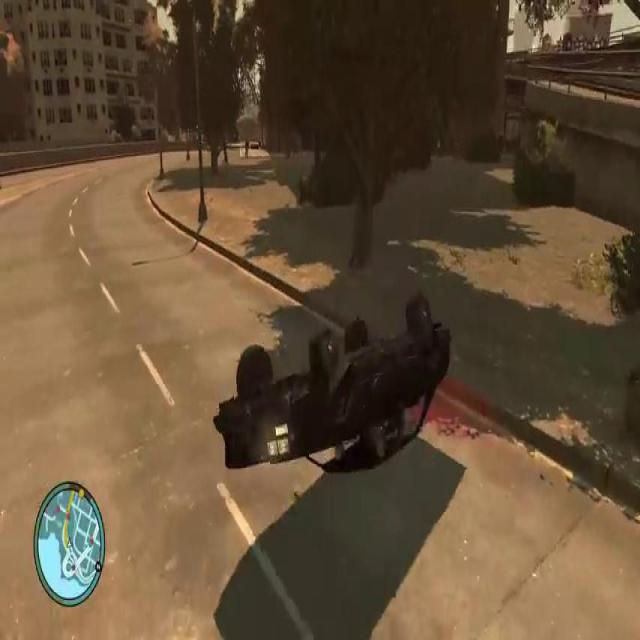severe: (211, 282, 454, 482)
